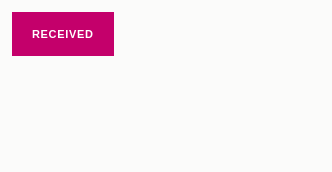
Test case: TradeButton › sends its hidden fields and shows the result
Click the button "RECEIVED": (63, 34) x1=12 y1=12 x2=114 y2=56
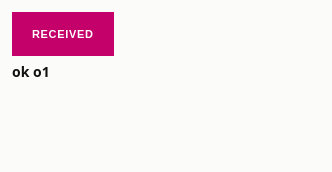
Now the message reads "ok o1", box x1=12 y1=62 x2=50 y2=81
